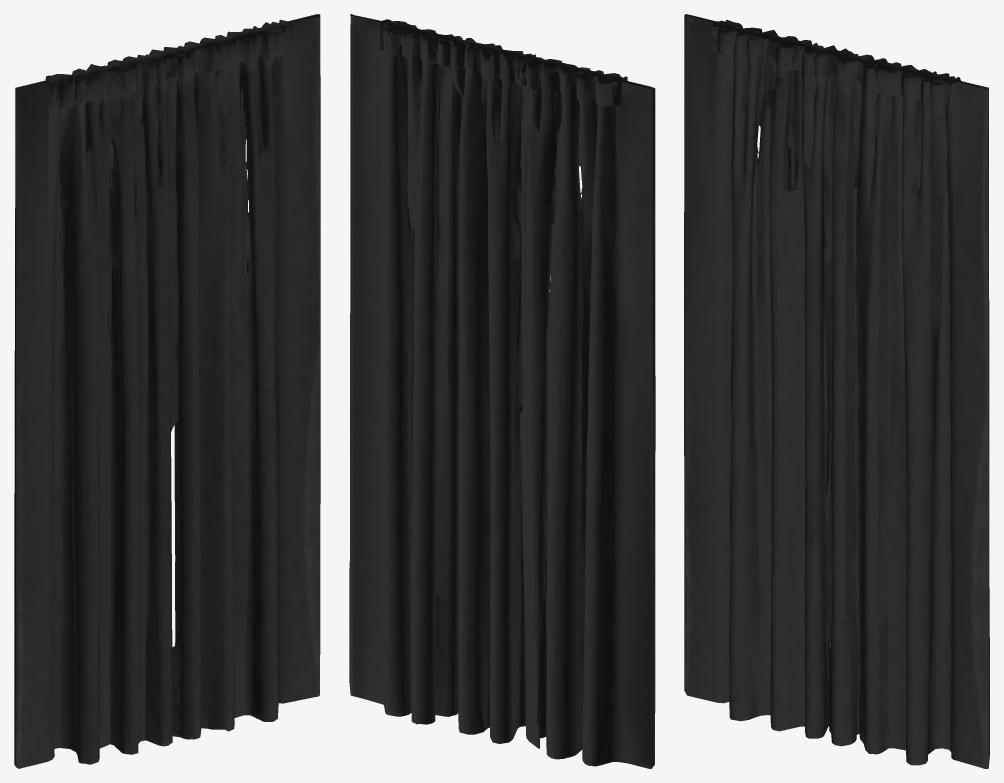
File: curtain.glb
3 renders of one model, left to right at view 1: azimuth 30°, elevation 25°; view 2: azimuth 150°, elevation 25°; view 3: azimuth 330°, elevation 25°, orthographic.
Parts seen in each view (by area): view 1: geometry_0; view 2: geometry_0; view 3: geometry_0.
Part boxes in pixels (bbox=[...]): geometry_0: bbox=[14, 14, 320, 768]; geometry_0: bbox=[349, 14, 655, 768]; geometry_0: bbox=[684, 14, 989, 768].
Size of the model in its own units: 0.4699 by 1 by 0.0829.
Materials: 1 (1 with a texture image).
